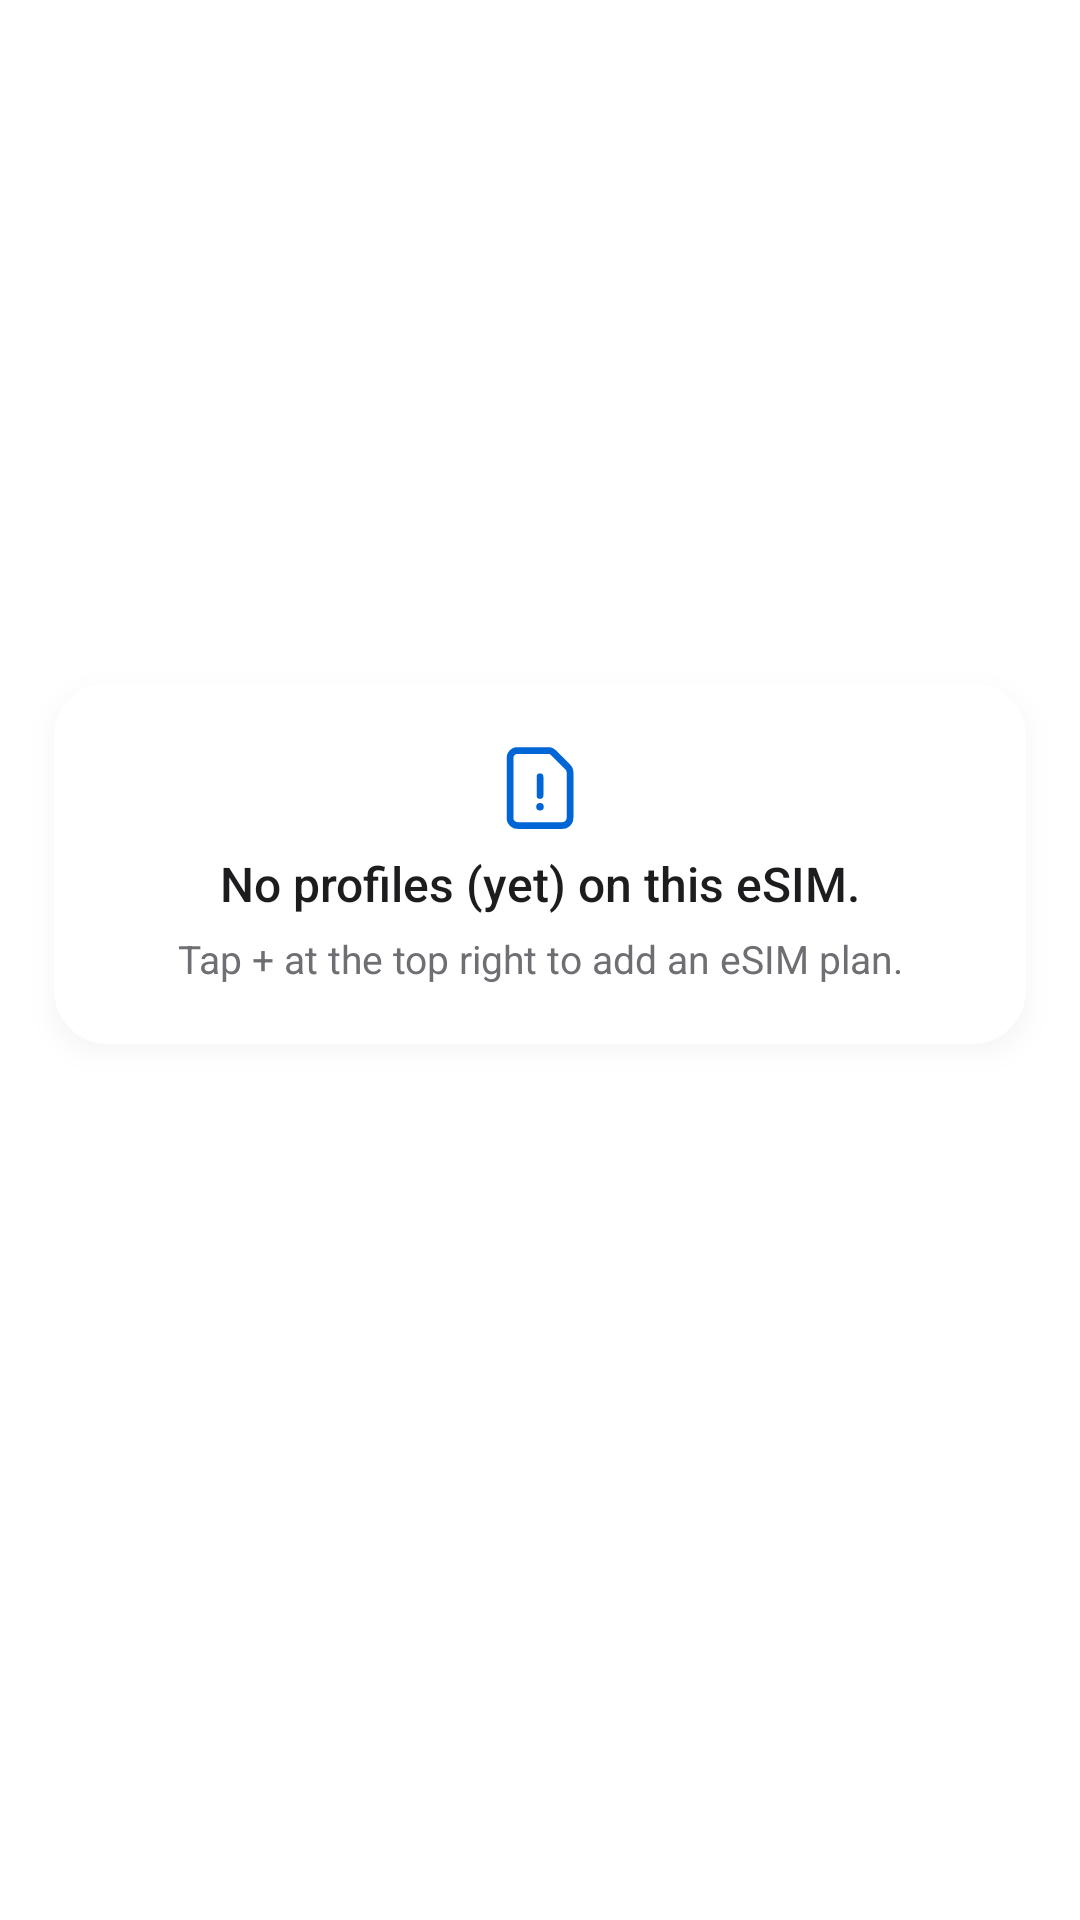

Icon bounding boxes for this 1080 × 1920 phone screenshot, format (x1, y1, x2, y2):
minimal sim alert: (506, 747, 574, 829)
